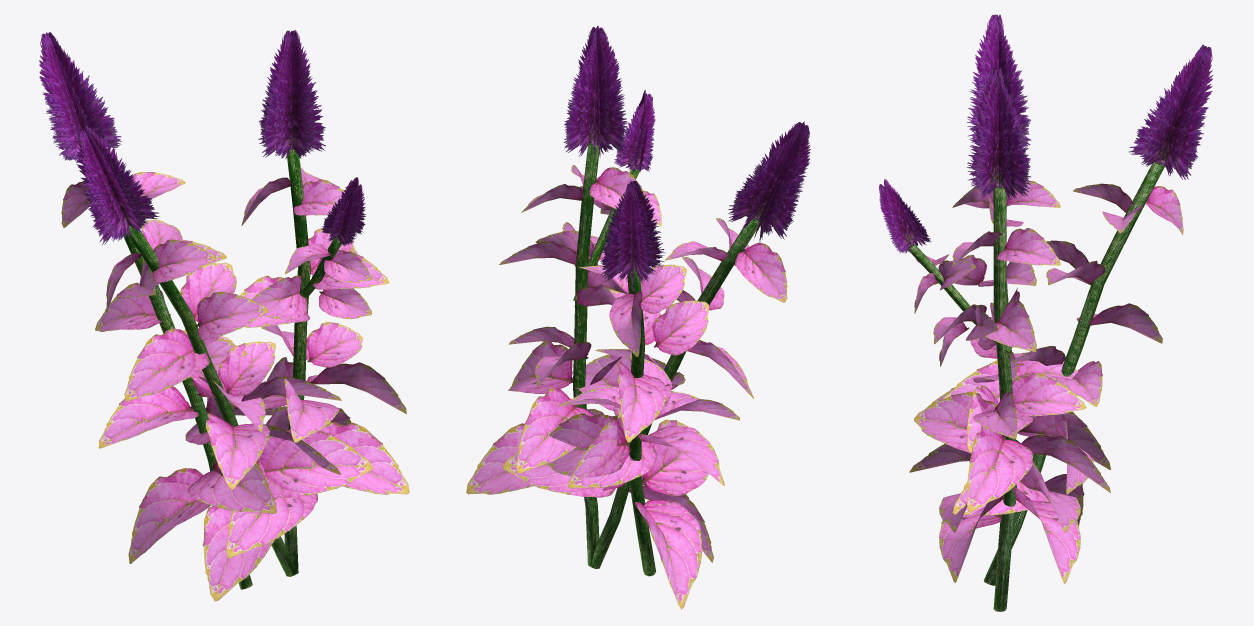
The model's file is flower 6.dae.
3 renders of one model, left to right at view 1: azimuth 30°, elevation 25°; view 2: azimuth 150°, elevation 25°; view 3: azimuth 270°, elevation 25°, orthographic.
Parts seen in each view (by area): view 1: flower_6_Group4_Group3_Form5, flower_6_Group4_Form5, flower_6_Group4_Group3_Group, flower_6_Group4_Group3_Shape, flower_6_Group4_Group2_Form3; view 2: flower_6_Group4_Group3_Form5, flower_6_Group4_Form5, flower_6_Group4_Group3_Group, flower_6_Group4_Group3_Shape, flower_6_Group4_Group2_Form3; view 3: flower_6_Group4_Form5, flower_6_Group4_Group3_Form5, flower_6_Group4_Group3_Group, flower_6_Group4_Group3_Shape, flower_6_Group4_Group2_Form3.
Part boxes in pixels (bbox=[...]): flower_6_Group4_Group3_Form5: bbox=[61, 172, 373, 601]; flower_6_Group4_Form5: bbox=[226, 167, 409, 557]; flower_6_Group4_Group3_Group: bbox=[39, 32, 159, 244]; flower_6_Group4_Group3_Shape: bbox=[123, 149, 341, 589]; flower_6_Group4_Group2_Form3: bbox=[258, 30, 365, 246]; flower_6_Group4_Group3_Form5: bbox=[502, 218, 787, 609]; flower_6_Group4_Form5: bbox=[466, 165, 688, 498]; flower_6_Group4_Group3_Group: bbox=[600, 121, 810, 290]; flower_6_Group4_Group3_Shape: bbox=[573, 143, 759, 576]; flower_6_Group4_Group2_Form3: bbox=[563, 25, 655, 171]; flower_6_Group4_Form5: bbox=[914, 197, 1110, 583]; flower_6_Group4_Group3_Form5: bbox=[909, 180, 1183, 532]; flower_6_Group4_Group3_Group: bbox=[967, 14, 1212, 179]; flower_6_Group4_Group3_Shape: bbox=[908, 162, 1164, 611]; flower_6_Group4_Group2_Form3: bbox=[879, 67, 1030, 253].
Bounding box in the file's own units: 36.27 × 52.89 × 33.26.
Materials: 2 (2 with a texture image).
